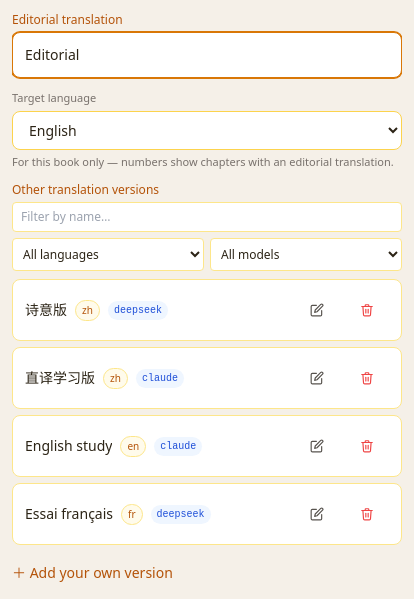
version filter › filters by name
Type "直译" into the field named "Filter versions by name". click: (207, 217)
box: [12,202,402,232]
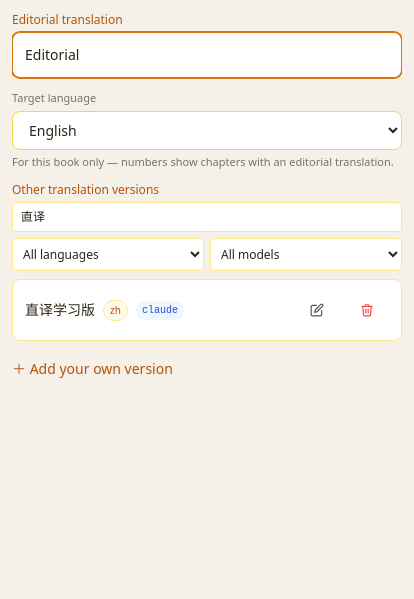
Expected: the radio button labelled "直译学习版 zh claude" is shown, [25,288,289,332]
Expected: the radio button labelled "诗意版" is gone
